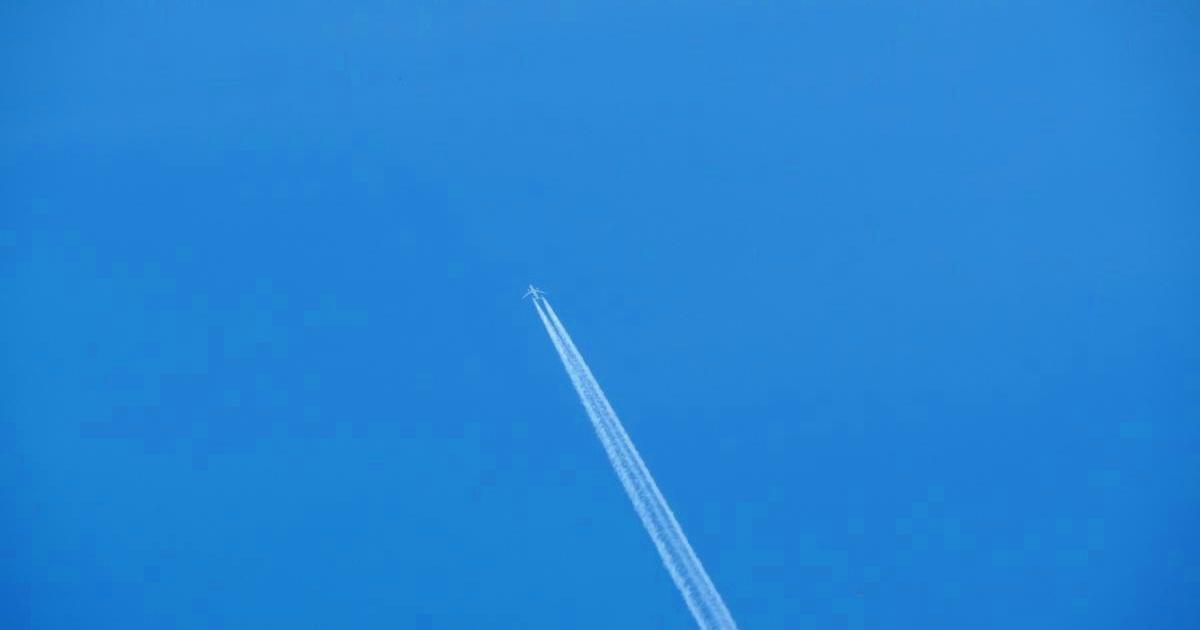Plane: (451, 268, 734, 608)
